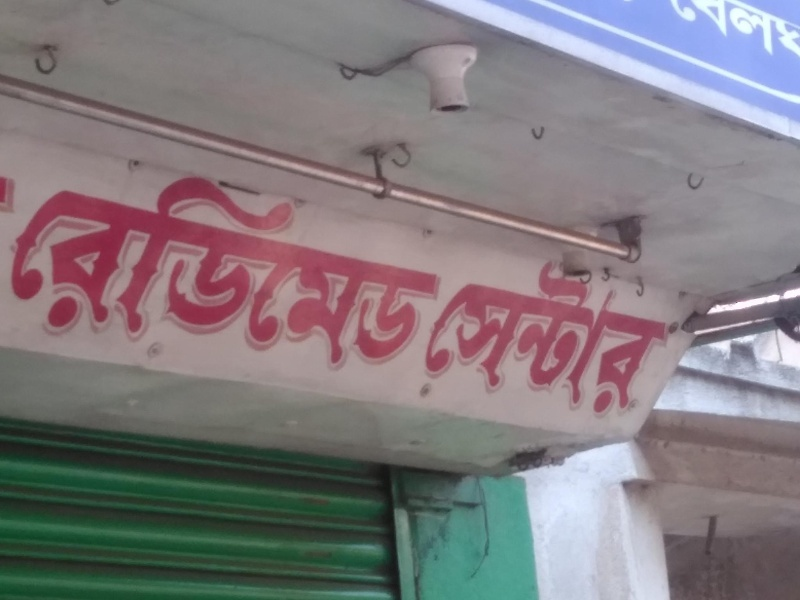text: (33, 151, 48, 388), (49, 151, 64, 388), (65, 151, 80, 388), (81, 151, 96, 388), (97, 151, 112, 388), (113, 151, 128, 388), (129, 151, 144, 388), (145, 151, 160, 388), (161, 151, 176, 388), (177, 151, 192, 388), (193, 151, 208, 388), (209, 151, 224, 388), (225, 151, 240, 388), (241, 151, 256, 388), (257, 151, 272, 388), (273, 151, 288, 388), (289, 151, 304, 388), (305, 151, 320, 388), (321, 151, 336, 388), (337, 151, 352, 388), (353, 151, 368, 388), (369, 151, 384, 388), (385, 151, 400, 388), (401, 151, 416, 388), (417, 151, 432, 388), (433, 151, 448, 388), (449, 151, 464, 388), (465, 240, 480, 431), (481, 240, 496, 431), (497, 240, 512, 431), (513, 240, 528, 431), (529, 240, 544, 431), (545, 240, 560, 431), (561, 240, 576, 431), (577, 240, 592, 431), (593, 240, 608, 431), (609, 240, 624, 431), (625, 240, 640, 431), (641, 240, 656, 431), (657, 240, 672, 431), (673, 240, 688, 431), (465, 151, 475, 388), (689, 240, 699, 431), (641, 1, 656, 76), (657, 1, 672, 76), (673, 1, 688, 76), (689, 1, 704, 76), (705, 1, 720, 76), (721, 1, 736, 76), (737, 1, 752, 76), (753, 1, 768, 76), (769, 1, 784, 76), (785, 1, 800, 76), (627, 1, 640, 76), (31, 151, 32, 388), (463, 240, 464, 431)
